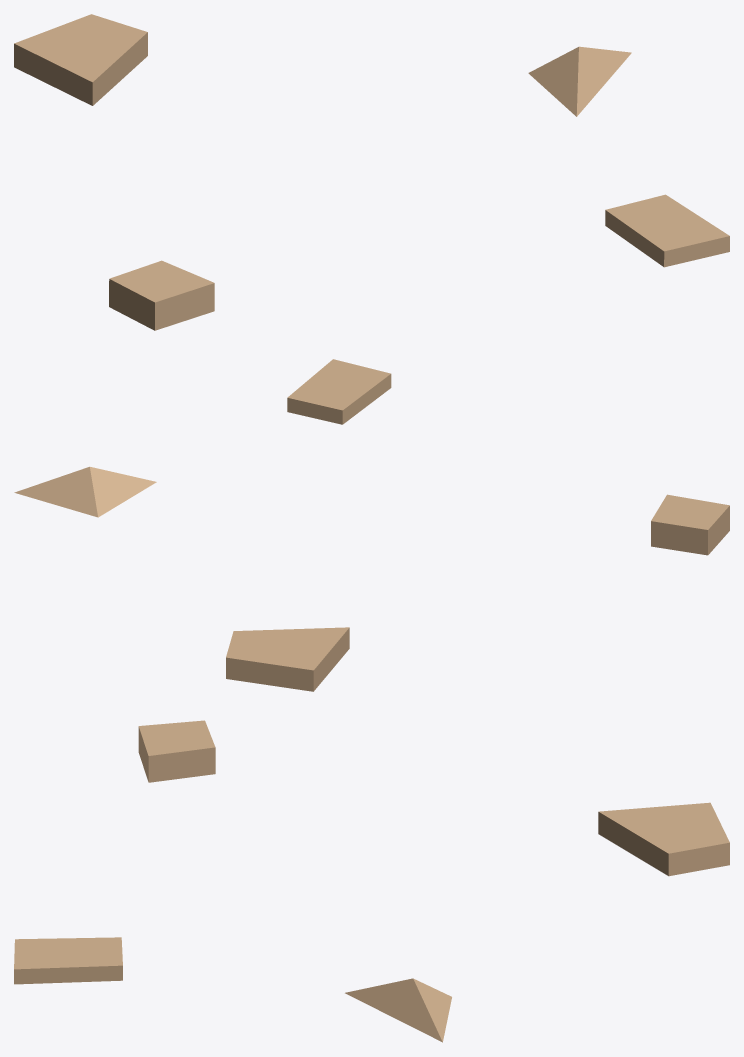
Rendered from Rocks_Flat_s_05.fbx.
3 views of the same model, one above another, from view 1: azimuth 30°, elevation 25°; view 2: azimuth 150°, elevation 25°; view 3: azimuth 270°, elevation 25° (orthographic). The views are drawn at different scales.
Visible parts, largest first — view 1: Rocks_Flat_s_05; view 2: Rocks_Flat_s_05; view 3: Rocks_Flat_s_05.
Boxes of the visible parts, x1=… form: Rocks_Flat_s_05: x1=14, y1=14, x2=729, y2=330; Rocks_Flat_s_05: x1=14, y1=359, x2=729, y2=691; Rocks_Flat_s_05: x1=14, y1=720, x2=729, y2=1042.
Bounding box in the file's own units: 67.21 × 3.87 × 68.01.
